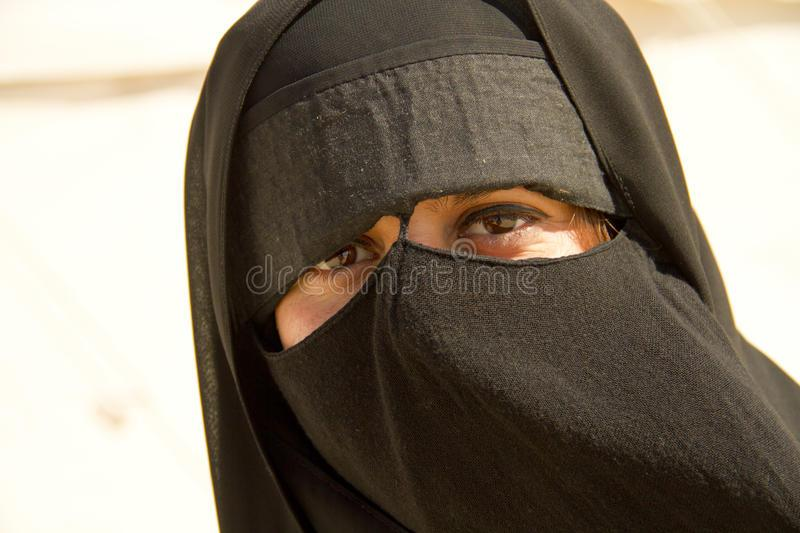No Mask: (216, 37, 700, 493)
